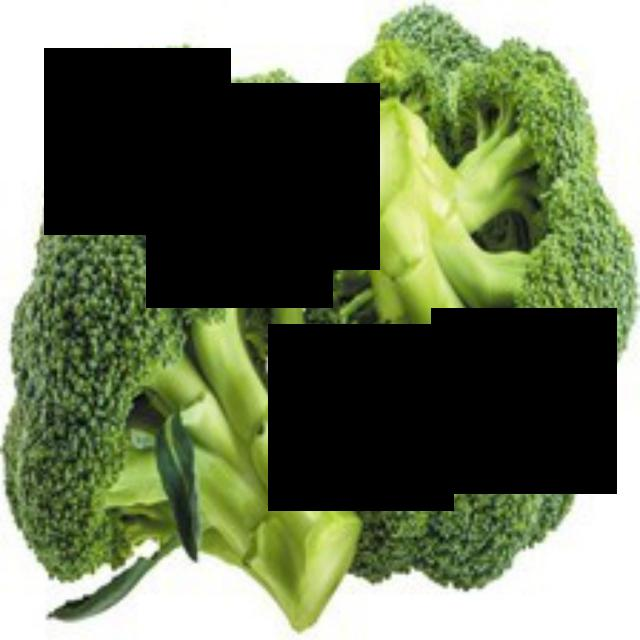broccoli: (0, 48, 391, 637), (280, 0, 637, 620)
